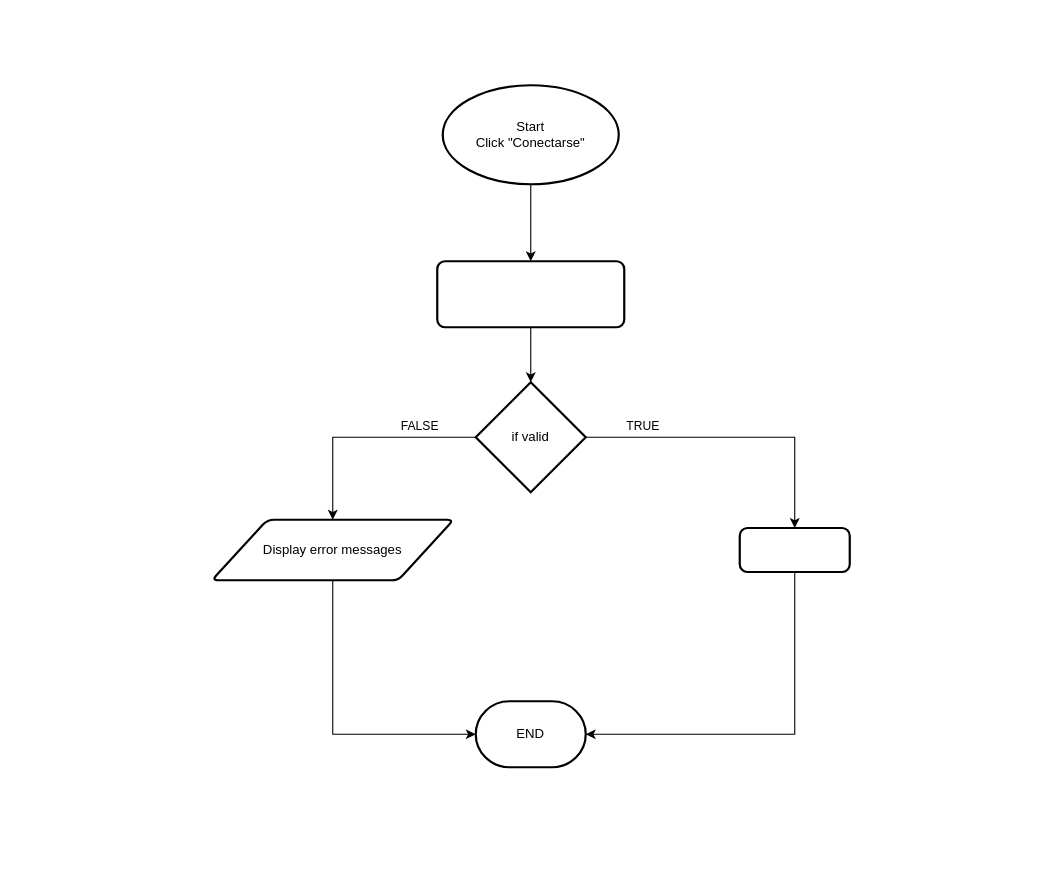
Some shapes in this 1062 by 875 pixel diagram are drawn without their labels. The box of each missing label's shape, as (x1, y1, x2, y2) in pixels:
Check credentials: (436, 260, 625, 328)
Set session: (738, 526, 850, 573)
